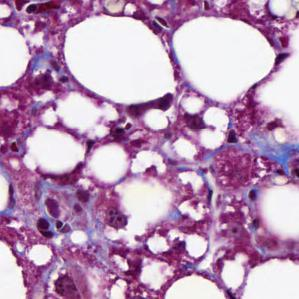inflammation: (34, 191, 72, 242)
